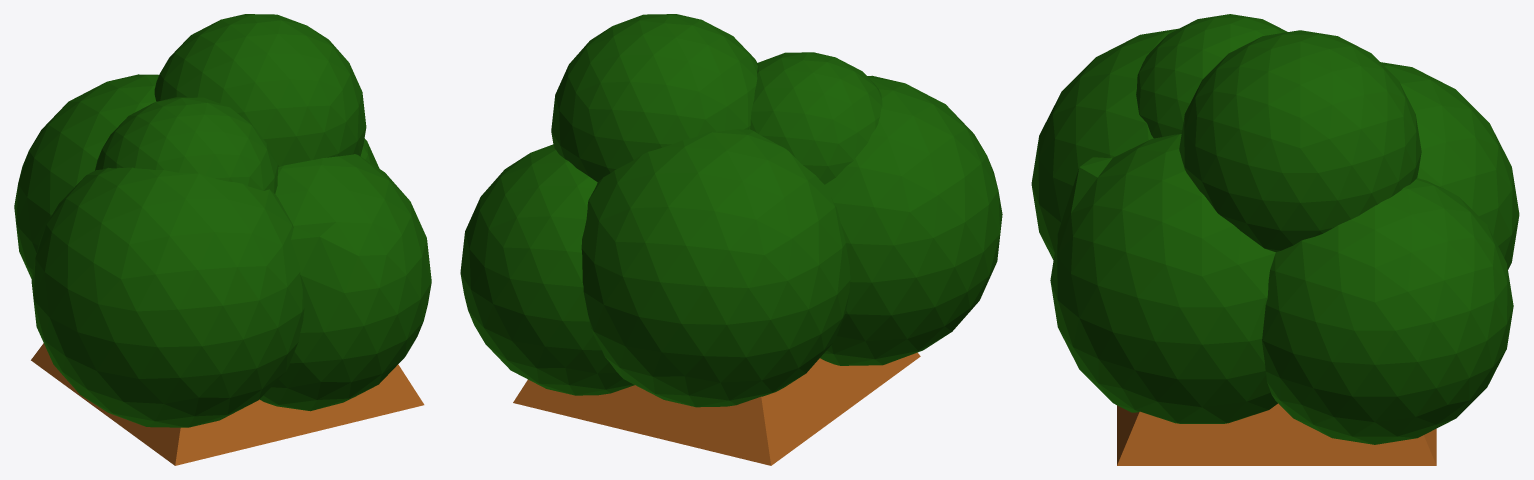
Rendered from bushx.fbx.
The picture shows the model from 3 angles, left to right: view 1: azimuth 30°, elevation 25°; view 2: azimuth 150°, elevation 25°; view 3: azimuth 270°, elevation 25°; orthographic projection. The views are drawn at different scales.
Visible parts, largest first — view 1: Cube; view 2: Cube; view 3: Cube.
Boxes of the visible parts, <box> form: Cube: <box>14,14,431,465</box>; Cube: <box>460,14,1002,465</box>; Cube: <box>1031,14,1519,465</box>.
Bounding box in the file's own units: 152 × 123 × 143.
